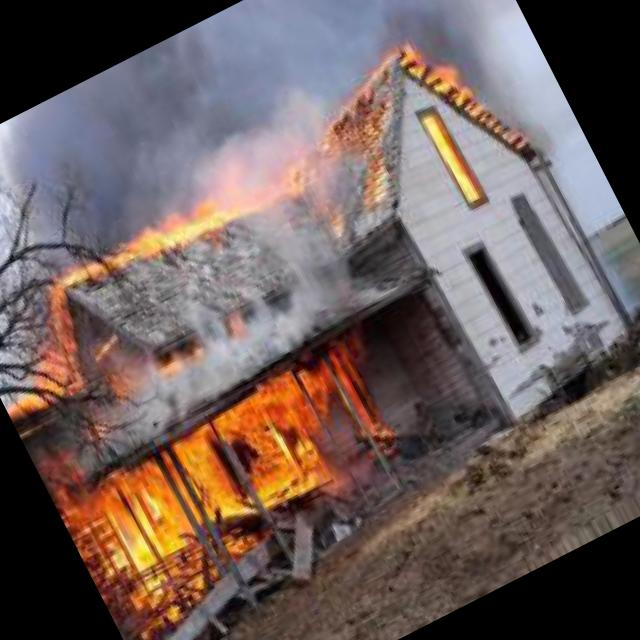fire: (58, 350, 416, 614), (48, 176, 236, 304), (412, 94, 493, 216)
smoke: (0, 0, 511, 288), (58, 214, 391, 456)
